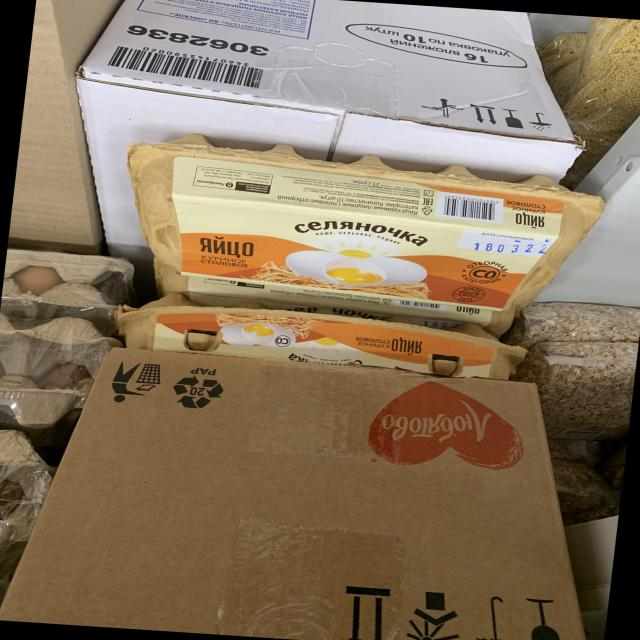organic waste: (110, 129, 611, 314), (108, 289, 531, 382), (520, 336, 638, 444)
